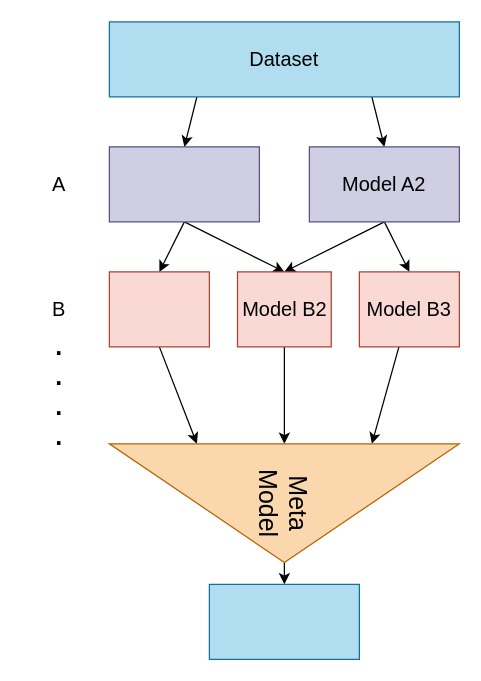
This 481x681 diagram has some shape labels left out. Here are the shapes that lost their labels. From the top down, the centre of each, then its label:
pixel 183 184: Model A1
pixel 158 309: Model B1
pixel 283 621: Output
